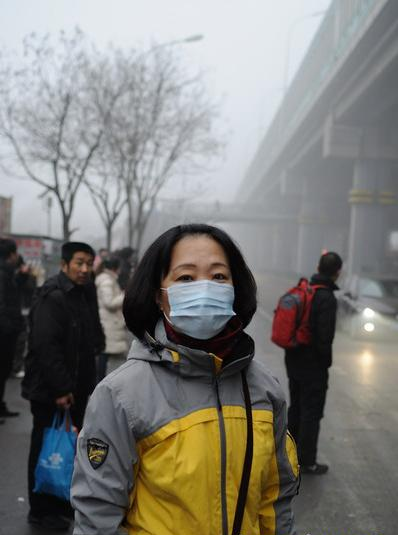car: (338, 270, 398, 339)
person: (68, 221, 302, 535), (19, 239, 101, 528), (269, 250, 341, 474), (1, 234, 31, 424), (92, 257, 127, 379)
